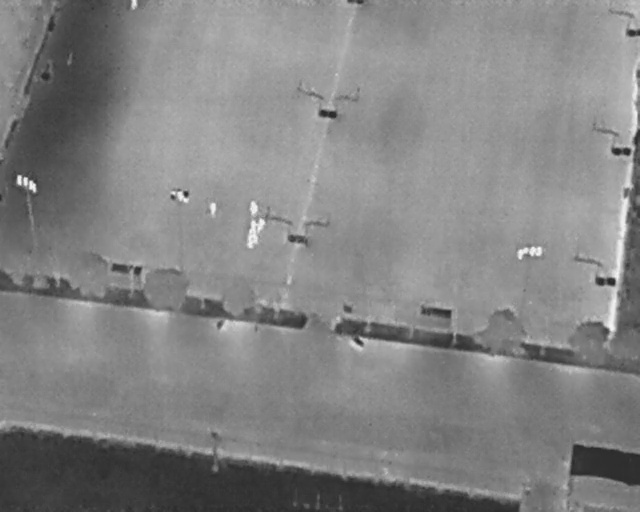Person: (249, 200, 258, 217), (257, 218, 266, 235), (208, 203, 217, 218), (247, 230, 254, 249), (129, 0, 138, 11), (250, 220, 257, 233), (253, 230, 259, 244)
